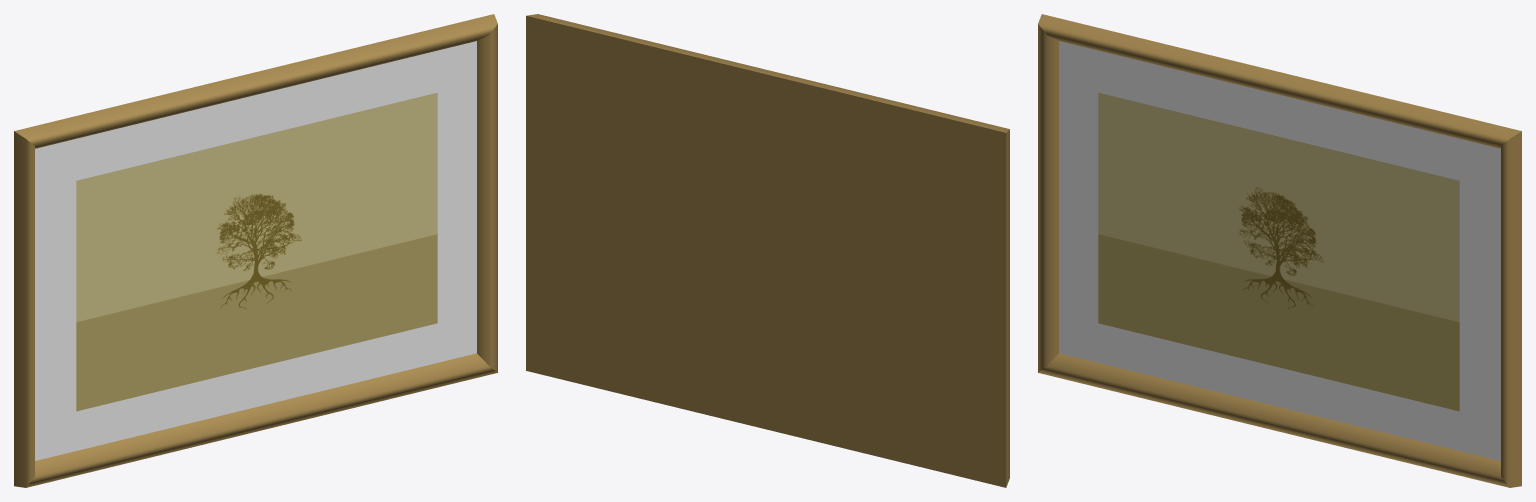
Rendered from picture_024.fbx.
3 views of the same model, side by side, from view 1: azimuth 30°, elevation 25°; view 2: azimuth 150°, elevation 25°; view 3: azimuth 330°, elevation 25° (orthographic).
Visible parts, largest first — view 1: picture_024; view 2: picture_024; view 3: picture_024.
Part boxes in pixels (x1,y1,x2,y2): picture_024: (14,14,497,487); picture_024: (526,14,1009,487); picture_024: (1038,14,1521,487).
Size of the model in its own units: 86.44 by 2.44 by 61.09.
